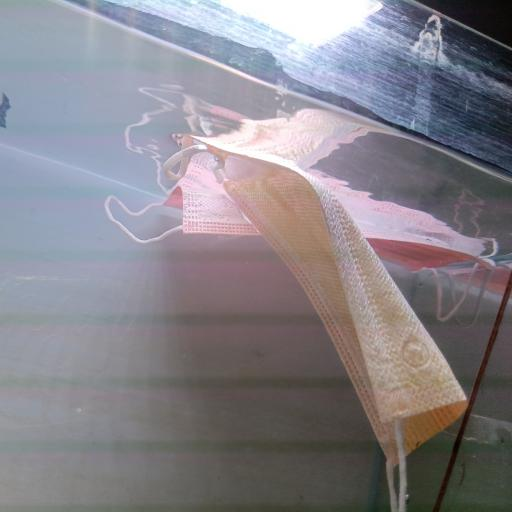mask: (175, 143, 472, 512), (107, 175, 496, 290)
